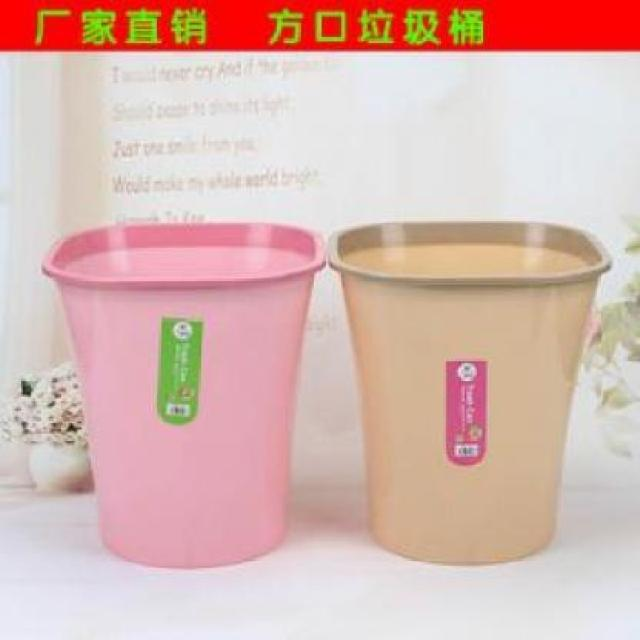dustbin: (35, 216, 330, 576), (328, 215, 617, 570)
